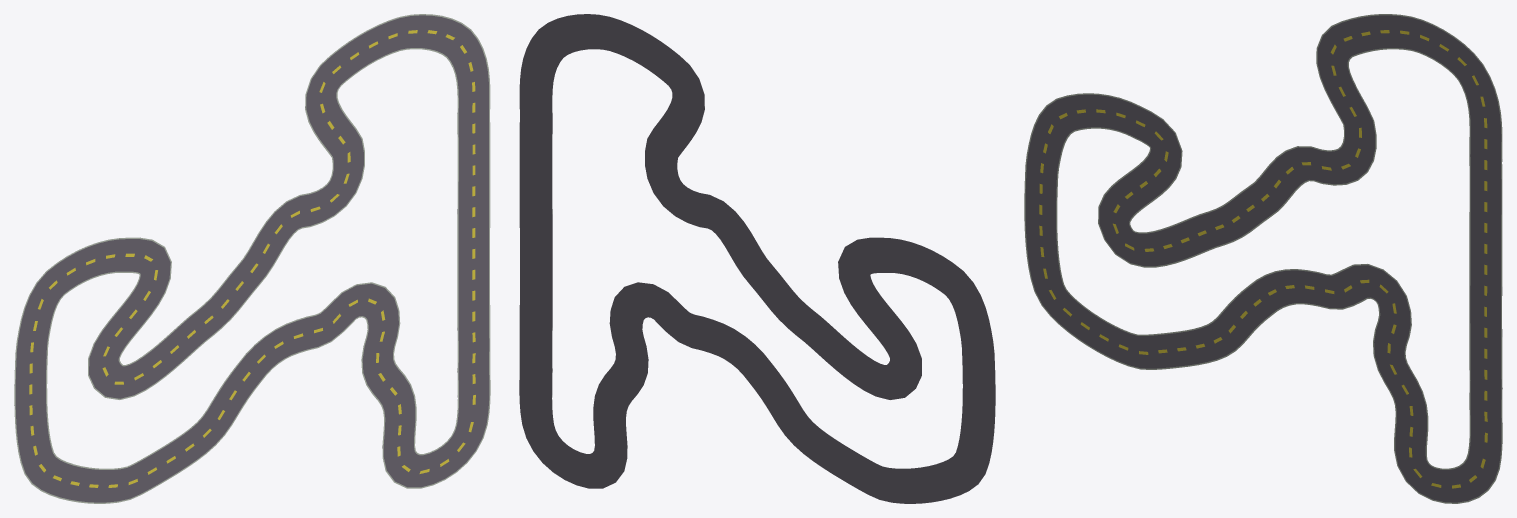
The model's file is track.obj.
The picture shows the model from 3 angles, left to right: view 1: azimuth 30°, elevation 25°; view 2: azimuth 150°, elevation 25°; view 3: azimuth 330°, elevation 25°; orthographic projection.
Size of the model in its own units: 15.52 by 14.85 by 0.002.
